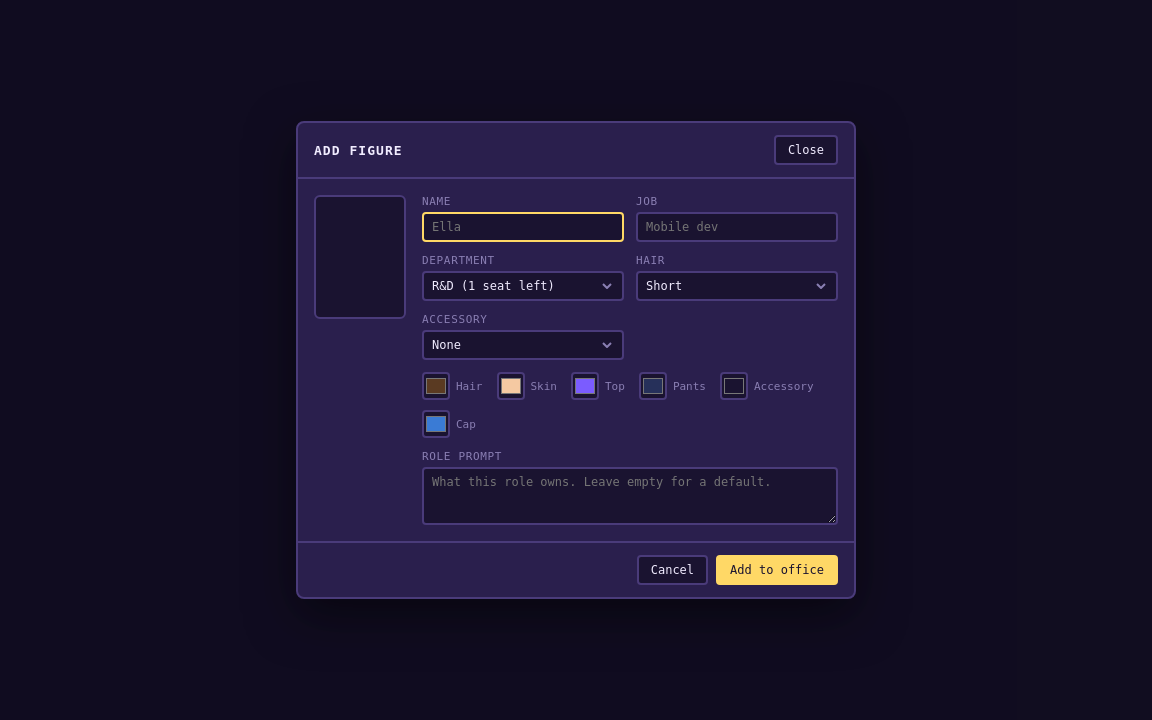
it: AddFigureDialog › shows errors instead of adding when fields are empty
The image size is (1152, 720).
What coordinates should you click on to do the following:
click the button "Add to office"
I would click on:
 (777, 570)
Its box is [716,555,838,585].
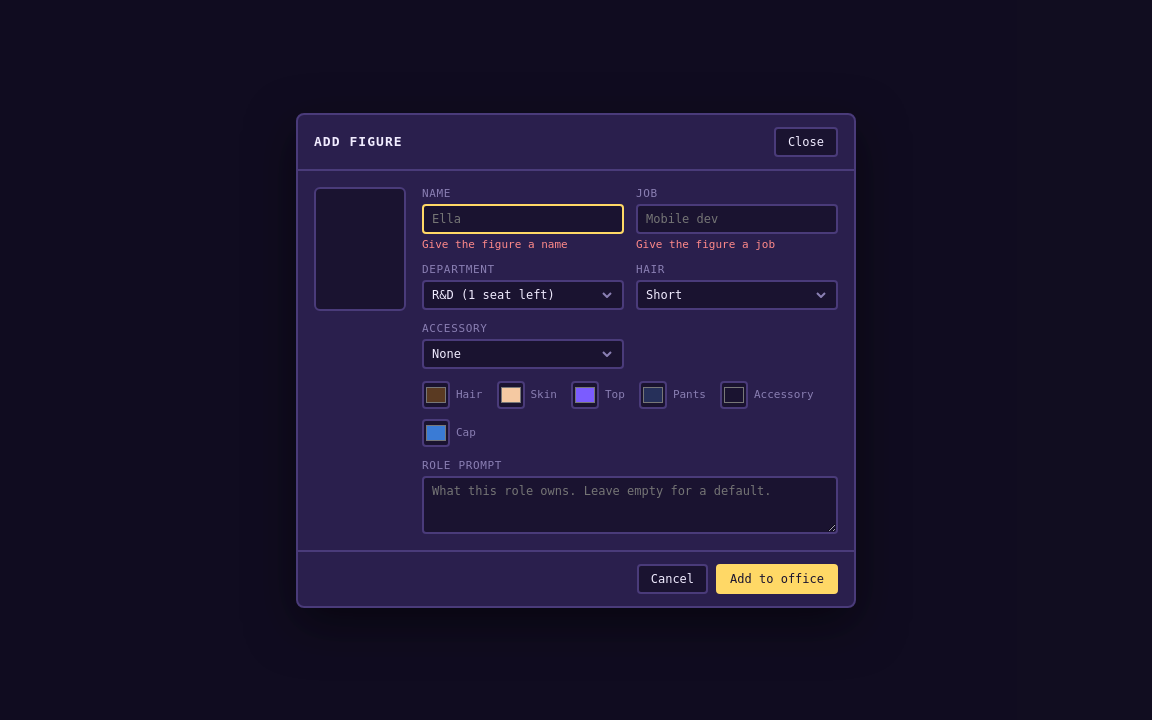
Check: the number of messages is 2, box [422,238,568,250]; [636,238,775,250]
